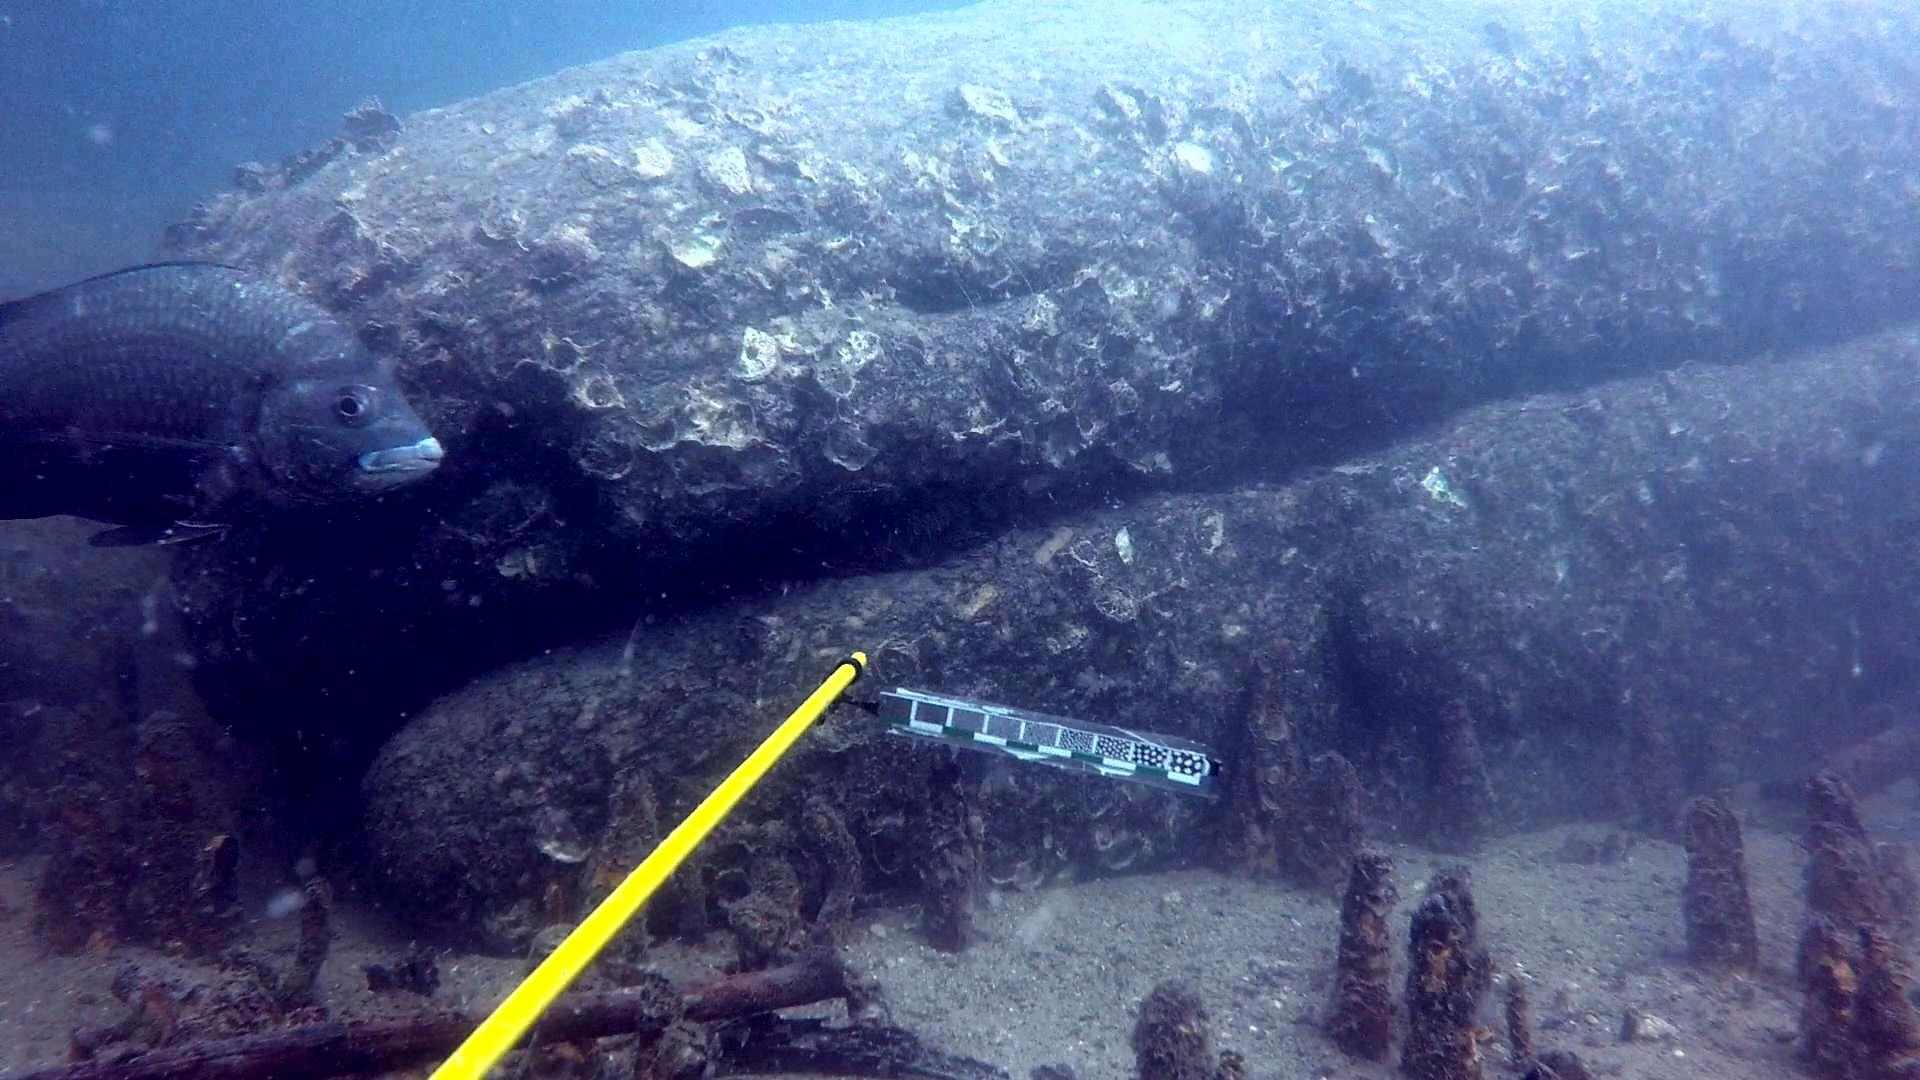acanthopagrus palmaris: (0, 248, 443, 571)
